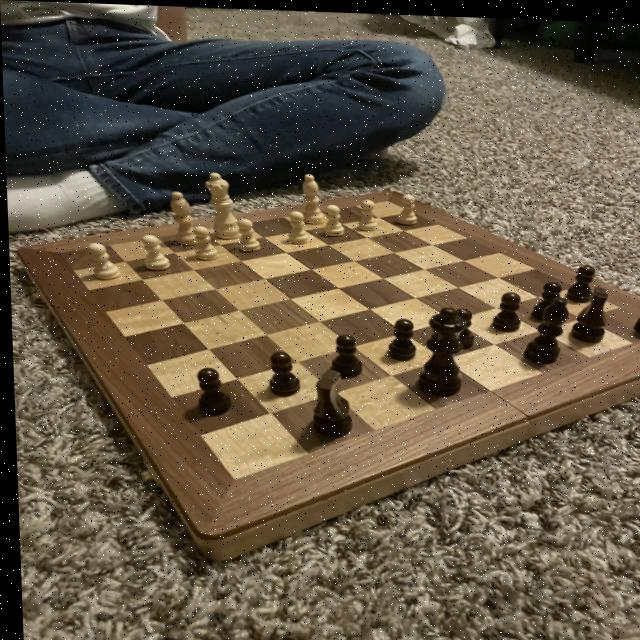bishop: (514, 286, 568, 364)
black-king: (303, 365, 355, 435), (563, 275, 615, 345)
black-knight: (188, 363, 233, 417), (261, 346, 304, 398), (524, 275, 565, 319), (328, 329, 364, 378), (381, 314, 416, 360), (486, 285, 521, 331), (563, 259, 597, 303), (445, 302, 474, 349)
black-pawn: (407, 300, 469, 398)
black-rook: (166, 187, 203, 250), (295, 168, 331, 227)
white-knight: (82, 241, 122, 281), (136, 232, 174, 271), (186, 223, 222, 261), (283, 208, 313, 244), (233, 216, 262, 253), (391, 189, 420, 226), (319, 200, 348, 236), (354, 194, 381, 232)
white-pawn: (200, 168, 248, 241)
